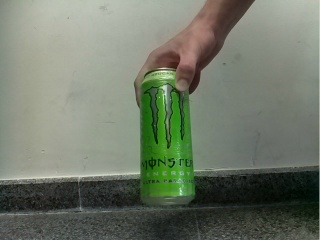botella plastico: (139, 67, 196, 205)
